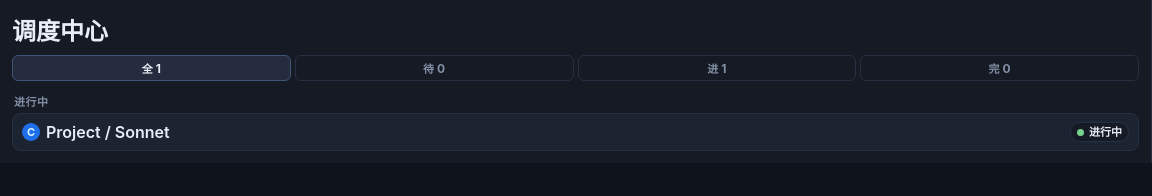
Test: SessionRadar › shows a filtered empty state
The image size is (1152, 196).
What coordinates should you click on to do the following:
click the button named "已完成"
I would click on:
 (1000, 68)
Its box is top-left (860, 55), bottom-right (1139, 81).
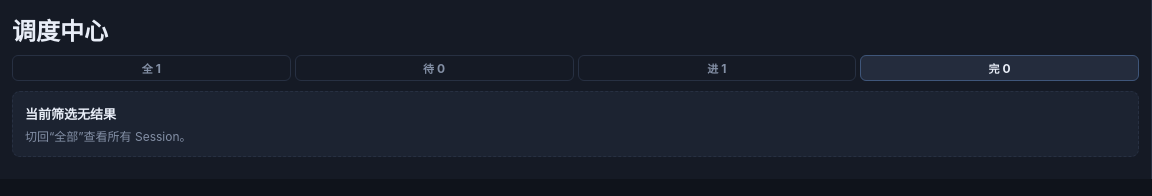
Now the text "当前筛选无结果" is shown, box top-left (25, 106), bottom-right (116, 122)
